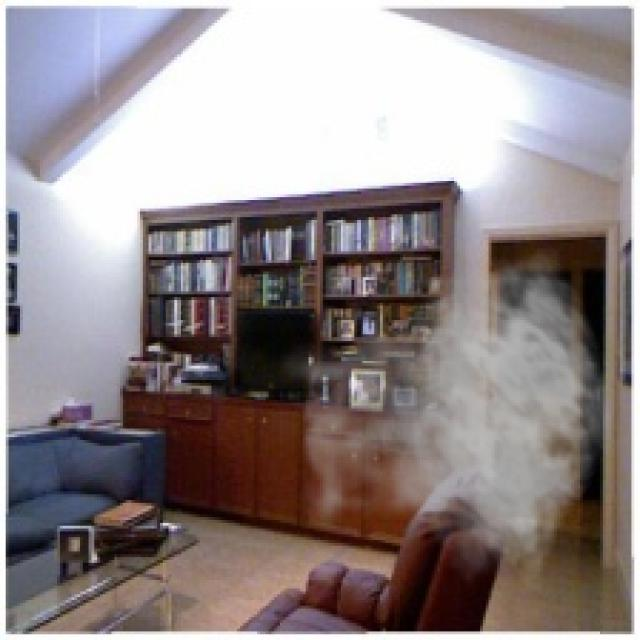smoke: (272, 248, 614, 592)
